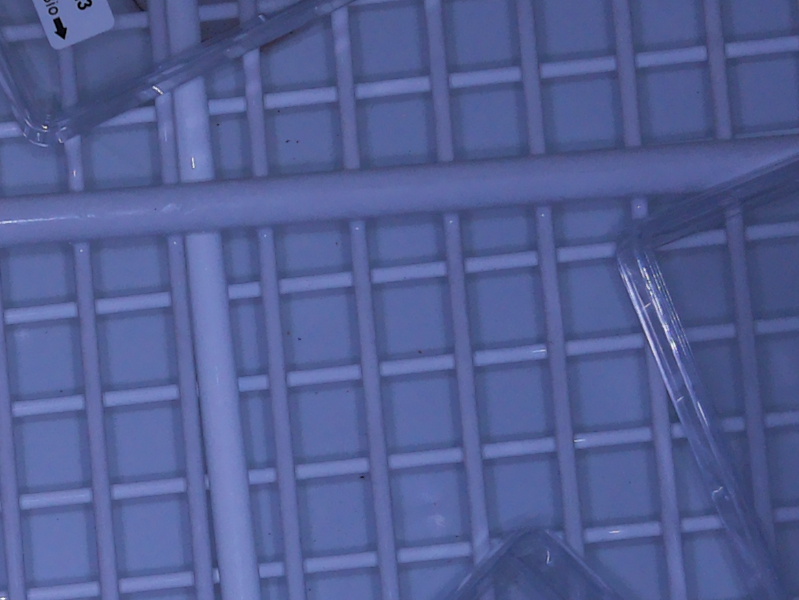plate: (611, 145, 799, 589), (1, 1, 362, 149), (450, 526, 613, 600)
